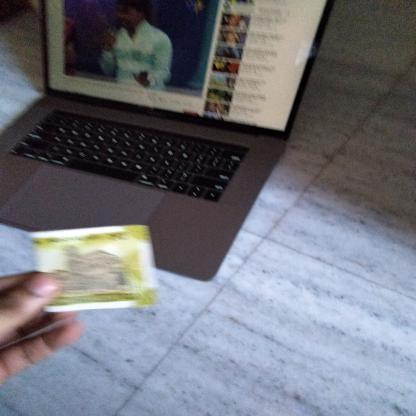New20Back: (29, 228, 145, 308)
